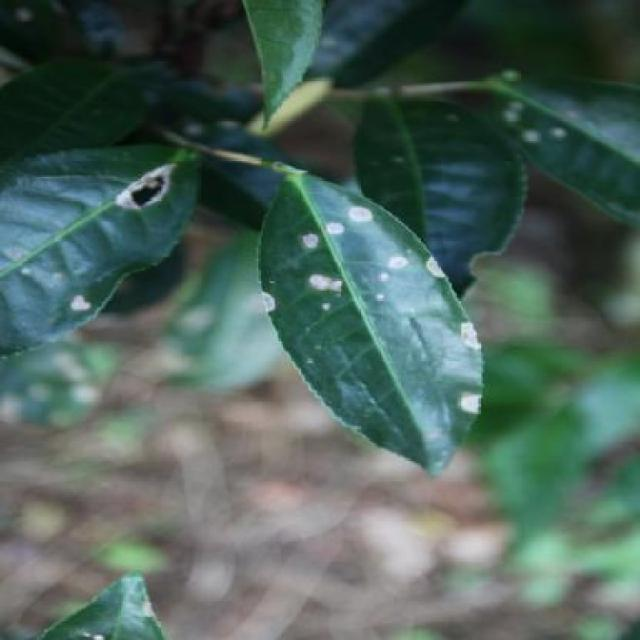Leaf rust of tea: (258, 166, 484, 472)
